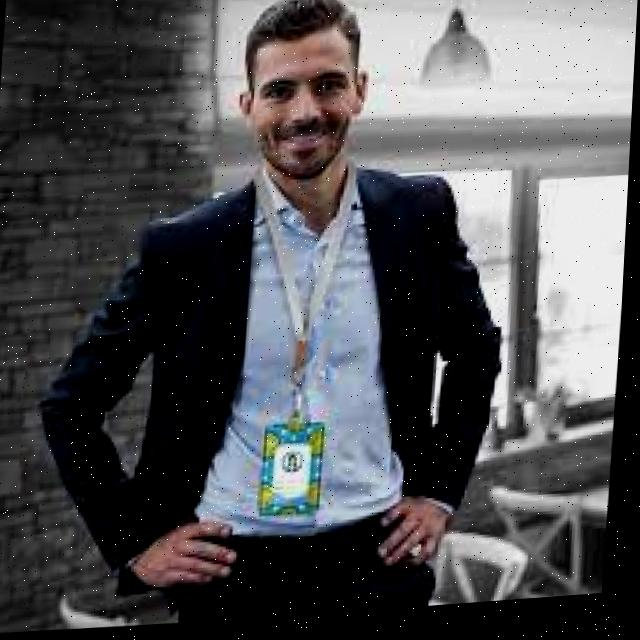id_card: (237, 171, 361, 530)
